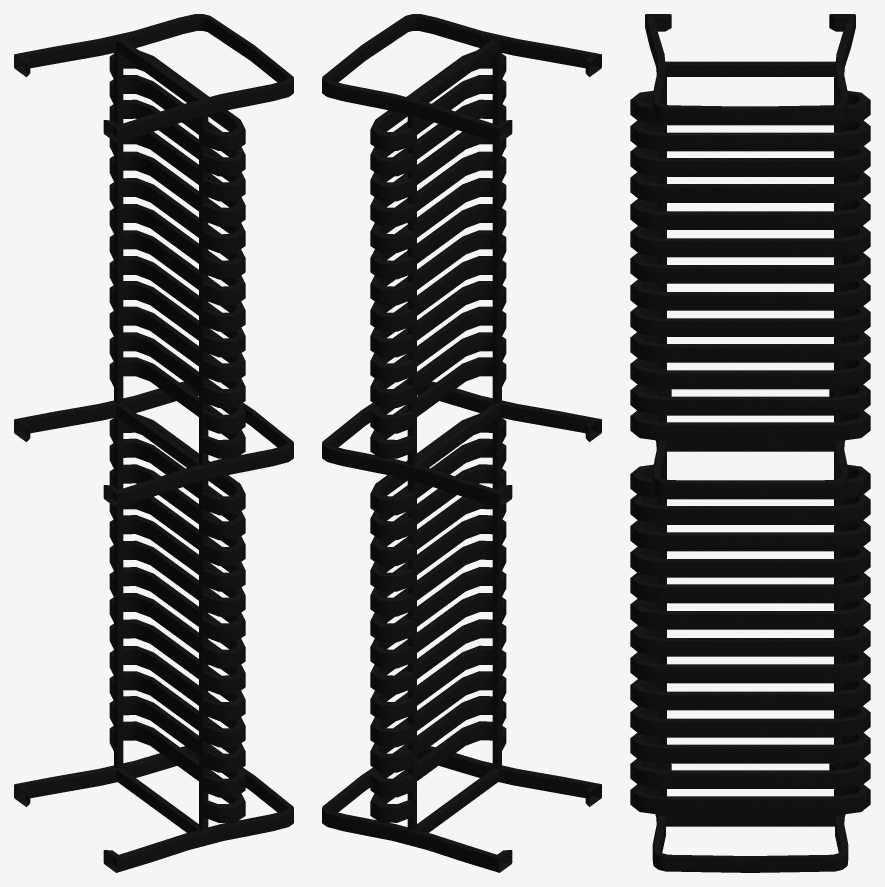
The model's file is cP_Bench06.dae.
3 views of the same model, side by side, from view 1: azimuth 30°, elevation 25°; view 2: azimuth 150°, elevation 25°; view 3: azimuth 270°, elevation 25° (orthographic). The views are drawn at different scales.
Parts seen in each view (by area): view 1: cP_Bench06.001; view 2: cP_Bench06.001; view 3: cP_Bench06.001.
Part boxes in pixels (x1,y1,x2,y2): cP_Bench06.001: (14,14,293,872); cP_Bench06.001: (322,14,601,872); cP_Bench06.001: (630,14,870,872).
Size of the model in its own units: 0.949 by 1.01 by 3.55.
